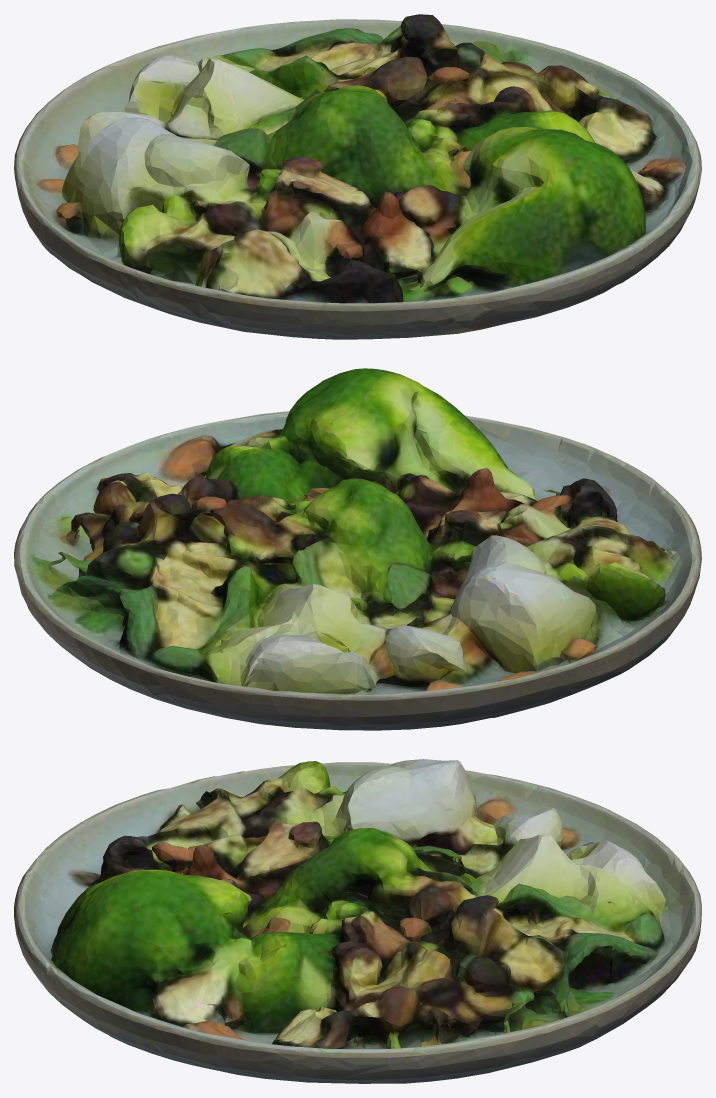
The model's file is salad.glb.
The picture shows the model from 3 angles, top to bottom: view 1: azimuth 30°, elevation 25°; view 2: azimuth 150°, elevation 25°; view 3: azimuth 270°, elevation 25°; orthographic projection.
Visible parts, largest first — view 1: Salad; view 2: Salad; view 3: Salad.
Part boxes in pixels (box(x1,y1,x2,y2)): Salad: box(14, 14, 701, 339); Salad: box(14, 368, 701, 730); Salad: box(14, 759, 701, 1083).
Bounding box in the file's own units: 0.2001 × 0.0393 × 0.1999.
Materials: 1 (1 with a texture image).
